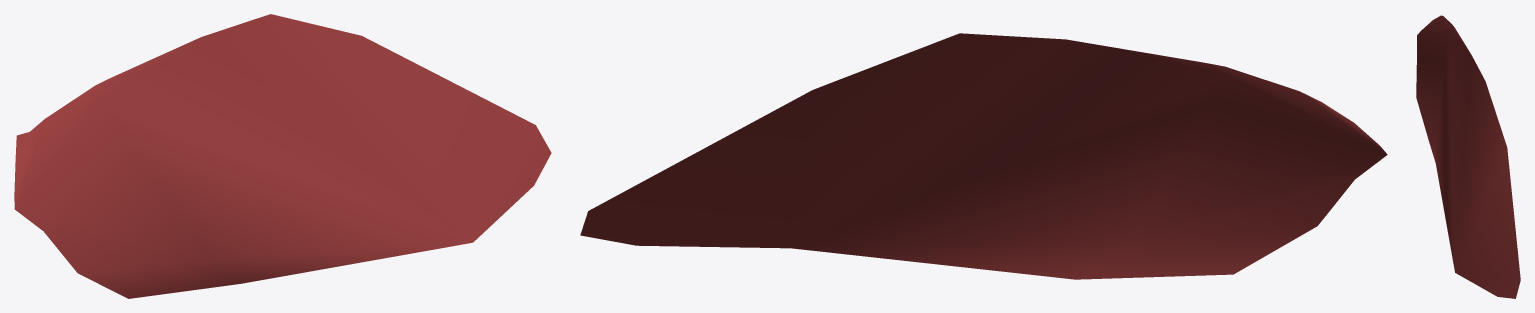
Rendered from rectus-anterior-capitis-muscle-er.glb.
The picture shows the model from 3 angles, left to right: view 1: azimuth 30°, elevation 25°; view 2: azimuth 150°, elevation 25°; view 3: azimuth 270°, elevation 25°; orthographic projection. The views are drawn at different scales.
Visible parts, largest first — view 1: Rectus anterior capitis muscle.er; view 2: Rectus anterior capitis muscle.er; view 3: Rectus anterior capitis muscle.er.
Part boxes in pixels (x1,y1,x2,y2): Rectus anterior capitis muscle.er: (14,14,551,298); Rectus anterior capitis muscle.er: (580,33,1387,279); Rectus anterior capitis muscle.er: (1416,15,1520,298).
Size of the model in its own units: 0.0166 by 0.00655 by 0.00425.
